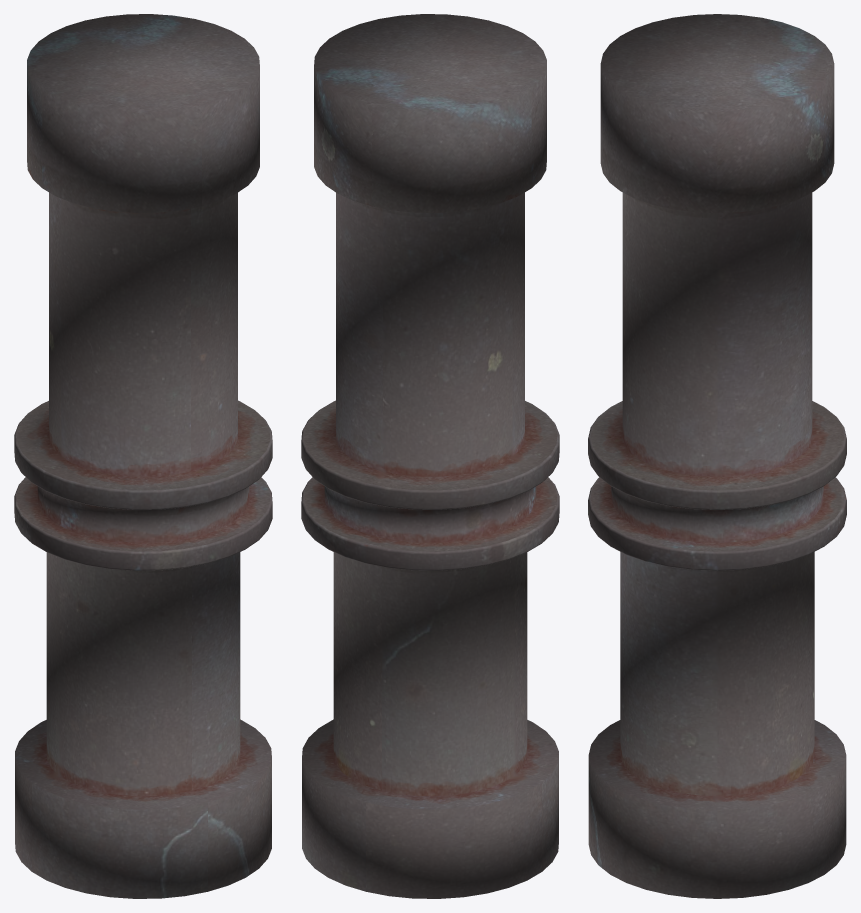
File: hi-fi-pipe.glb
The picture shows the model from 3 angles, left to right: view 1: azimuth 30°, elevation 25°; view 2: azimuth 150°, elevation 25°; view 3: azimuth 270°, elevation 25°; orthographic projection.
Visible parts, largest first — view 1: Cylinder.001; view 2: Cylinder.001; view 3: Cylinder.001.
Part boxes in pixels (x1,y1,x2,y2): Cylinder.001: (14,14,272,898); Cylinder.001: (301,14,559,898); Cylinder.001: (588,14,846,898).
Bounding box in the file's own units: 0.9735 × 3.24 × 0.9735.
Materials: 1 (1 with a texture image).
